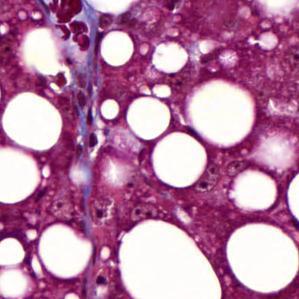steatosis: (119, 219, 224, 299), (228, 220, 299, 292), (3, 91, 63, 153), (152, 133, 206, 189), (102, 29, 134, 70)
